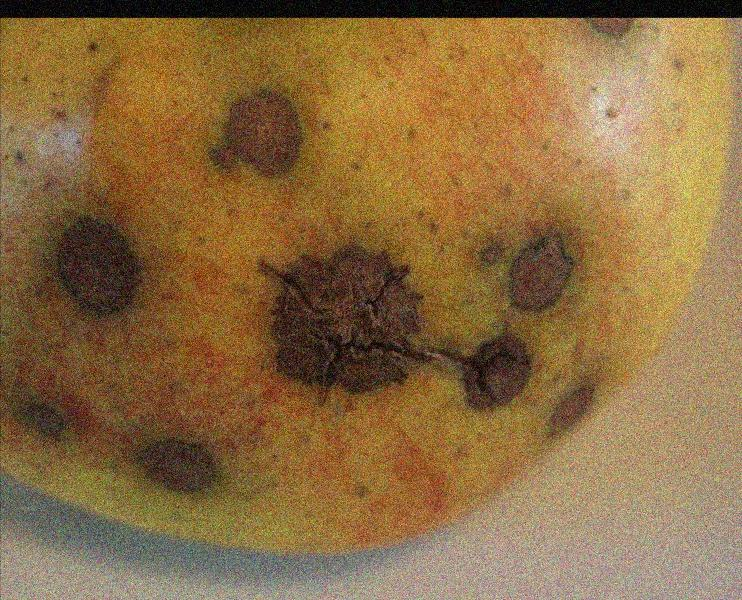rotten apple: (0, 18, 741, 555)
